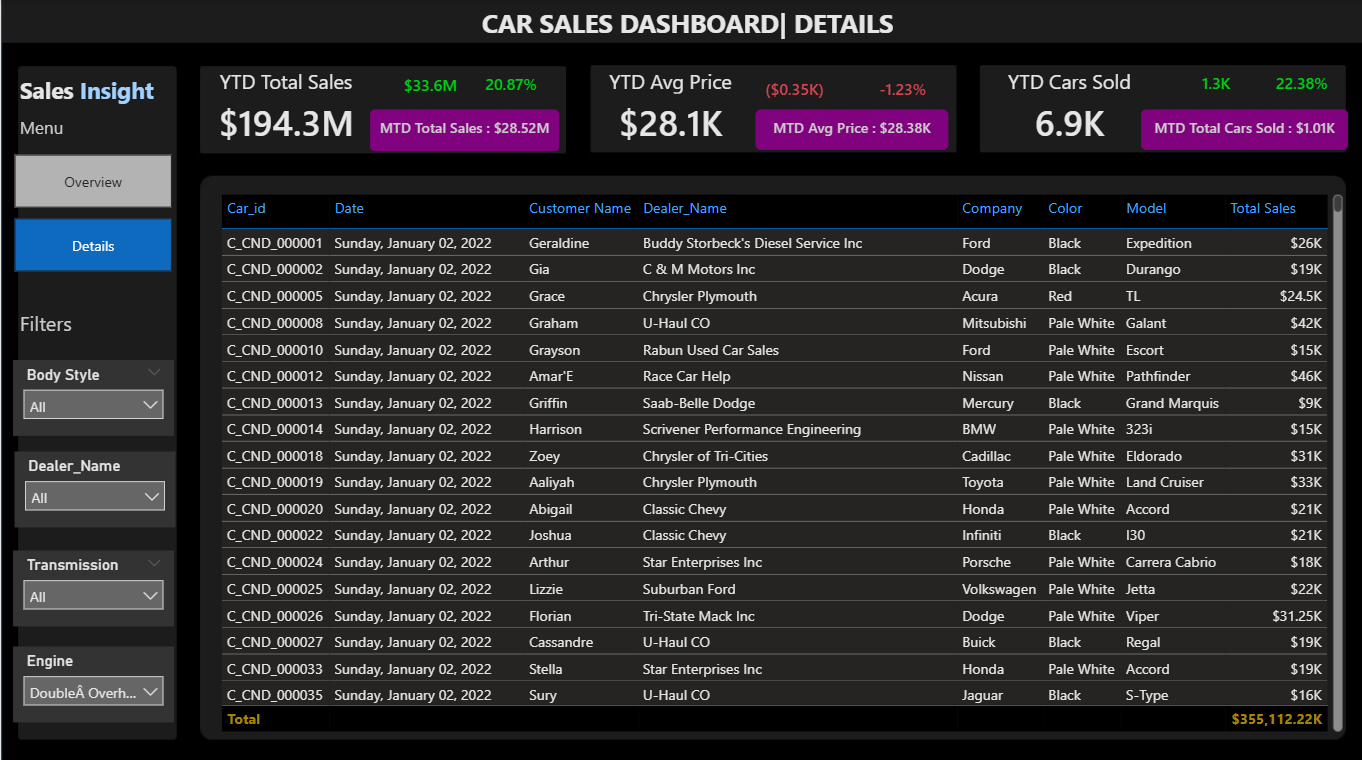

The dashboard page shown, as its layout file describes it:
{"tool":"powerbi","page":{"name":"Details","canvas":[1280,720],"ordinal":1},"visuals":[{"type":"card","title":"YTD Total Sales","fields":{"Values":["car_data.YTD Total Sales"]},"box":[189.1,64.1,157.9,78.1],"z":0},{"type":"card","fields":{"Values":["car_data.Sales Difference"]},"box":[345.8,58.6,115.3,45.4],"z":1000},{"type":"card","fields":{"Values":["car_data.YOY Sales Growth"]},"box":[432.9,57.8,92.2,45.3],"z":2000},{"type":"card","fields":{"Values":["car_data.MTD KPI"]},"box":[347,103.2,178.2,39.1],"z":3000},{"type":"card","title":"YTD Avg Price","fields":{"Values":["car_data.YTD Avg Price"]},"box":[548.1,63.3,161.6,78.3],"z":4000},{"type":"card","fields":{"Values":["car_data.Avg Price diff"]},"box":[688,63.3,115,45],"z":5000},{"type":"card","fields":{"Values":["car_data.YOY Avg Price Growth"]},"box":[789.7,63.3,115,45],"z":6000},{"type":"card","fields":{"Values":["car_data.MTD Avg Price KPI"]},"box":[709.7,103.3,181.6,38.3],"z":7000},{"type":"card","title":"YTD Cars Sold","fields":{"Values":["car_data.YTD Cars Sold"]},"box":[922.9,63.3,161.6,78.3],"z":8000},{"type":"card","fields":{"Values":["car_data.Cars Sold diff"]},"box":[1084.5,58.3,115,45],"z":9000},{"type":"card","fields":{"Values":["car_data.YOY Cars Sold Growth"]},"box":[1164.5,58.3,115,45],"z":10000},{"type":"card","fields":{"Values":["car_data.MTD Total Cars  Sold KPI"]},"box":[1071.2,103.3,194.9,38.3],"z":11000},{"type":"textbox","box":[447,0,450.1,43.8],"z":12000},{"type":"slicer","fields":{"Values":["car_data.Body Style"]},"box":[11.7,338.2,151.6,71.6],"z":13000},{"type":"slicer","fields":{"Values":["car_data.Dealer_Name"]},"box":[13.3,424.8,151.6,71.6],"z":14000},{"type":"slicer","fields":{"Values":["car_data.Transmission"]},"box":[11.7,518.1,151.6,71.6],"z":15000},{"type":"slicer","fields":{"Values":["car_data.Engine"]},"box":[11.7,608.1,151.6,71.6],"z":16000},{"type":"textbox","box":[13.3,286.5,75,40],"z":17000},{"type":"tableEx","fields":{"Values":["car_data.Car_id","car_data.Date","car_data.Customer Name","car_data.Dealer_Name","car_data.Company","car_data.Color","car_data.Model","car_data.Price ($)"]},"box":[201.6,178.3,1064.5,514.8],"z":18000},{"type":"pageNavigator","box":[13.3,144.9,148.3,111.6],"z":19000},{"type":"textbox","box":[13.3,65,149.9,43.3],"z":20000},{"type":"textbox","box":[13.3,103.3,60,41.6],"z":21000}]}

Visuals, with their boxes in screenshot pixels (x1, y1, x2, y2), scaled from the page's 1280x720 canvas onto the 1362x760 screenshot:
"YTD Total Sales" card: select_region(201, 68, 369, 150)
card - car_data.Sales Difference: select_region(368, 62, 491, 110)
card - car_data.YOY Sales Growth: select_region(461, 61, 559, 109)
card - car_data.MTD KPI: select_region(369, 109, 559, 150)
"YTD Avg Price" card: select_region(583, 67, 755, 149)
card - car_data.Avg Price diff: select_region(732, 67, 854, 114)
card - car_data.YOY Avg Price Growth: select_region(840, 67, 963, 114)
card - car_data.MTD Avg Price KPI: select_region(755, 109, 948, 149)
"YTD Cars Sold" card: select_region(982, 67, 1154, 149)
card - car_data.Cars Sold diff: select_region(1154, 62, 1276, 109)
card - car_data.YOY Cars Sold Growth: select_region(1239, 62, 1361, 109)
card - car_data.MTD Total Cars  Sold KPI: select_region(1140, 109, 1347, 149)
textbox: select_region(476, 0, 955, 46)
slicer - car_data.Body Style: select_region(12, 357, 174, 433)
slicer - car_data.Dealer_Name: select_region(14, 448, 175, 524)
slicer - car_data.Transmission: select_region(12, 547, 174, 622)
slicer - car_data.Engine: select_region(12, 642, 174, 717)
textbox: select_region(14, 302, 94, 345)
tableEx - car_data.Car_id x car_data.Date: select_region(215, 188, 1347, 732)
pageNavigator: select_region(14, 153, 172, 271)
textbox: select_region(14, 69, 174, 114)
textbox: select_region(14, 109, 78, 153)
